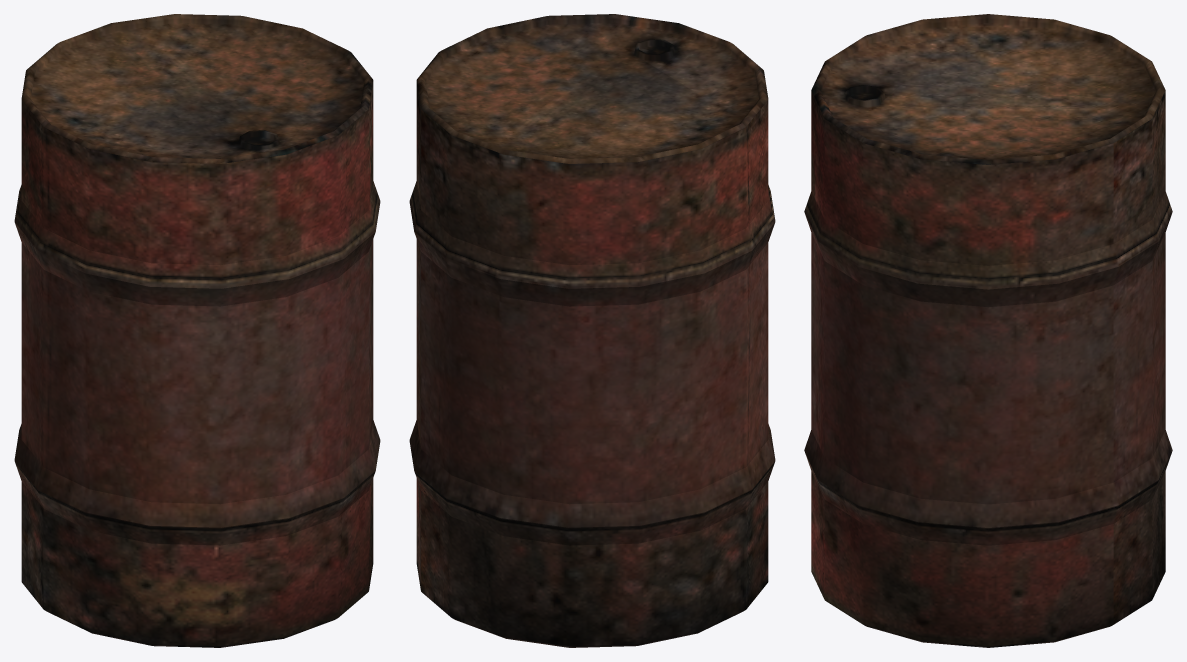
The model's file is metal_barrel_1.fbx.
3 views of the same model, side by side, from view 1: azimuth 30°, elevation 25°; view 2: azimuth 150°, elevation 25°; view 3: azimuth 270°, elevation 25° (orthographic).
Parts seen in each view (by area): view 1: metal_barrel_1; view 2: metal_barrel_1; view 3: metal_barrel_1.
Boxes of the visible parts, <box> form: metal_barrel_1: <box>14,14,380,647</box>; metal_barrel_1: <box>409,14,775,647</box>; metal_barrel_1: <box>804,14,1172,647</box>.
Bounding box in the file's own units: 74.88 × 109 × 74.88.
